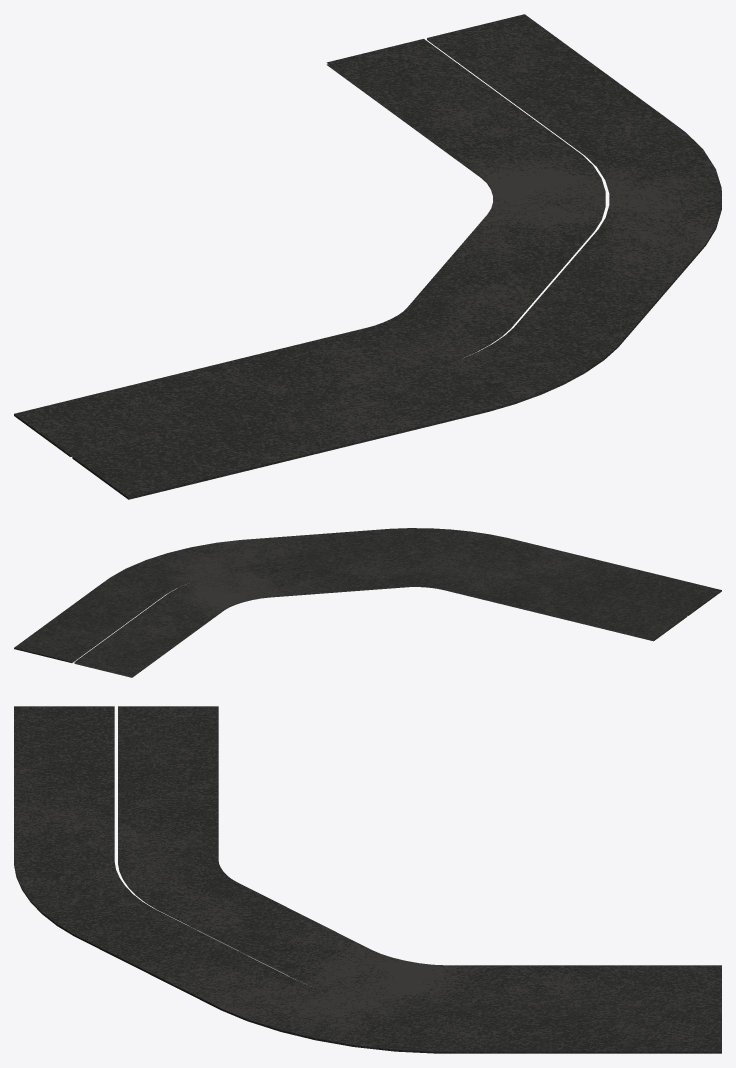
File: Road.fbx
3 renders of one model, top to bottom at view 1: azimuth 30°, elevation 25°; view 2: azimuth 150°, elevation 25°; view 3: azimuth 270°, elevation 25°, orthographic. The views are drawn at different scales.
Visible parts, largest first — view 1: Road; view 2: Road; view 3: Road.
Part boxes in pixels (left/top/right/bottom): Road: left=14, top=14, right=721, bottom=499; Road: left=14, top=528, right=721, bottom=677; Road: left=14, top=706, right=721, bottom=1053.
Size of the model in its own units: 20651 by 53.02 by 17891.
1 material, 1 textured.
